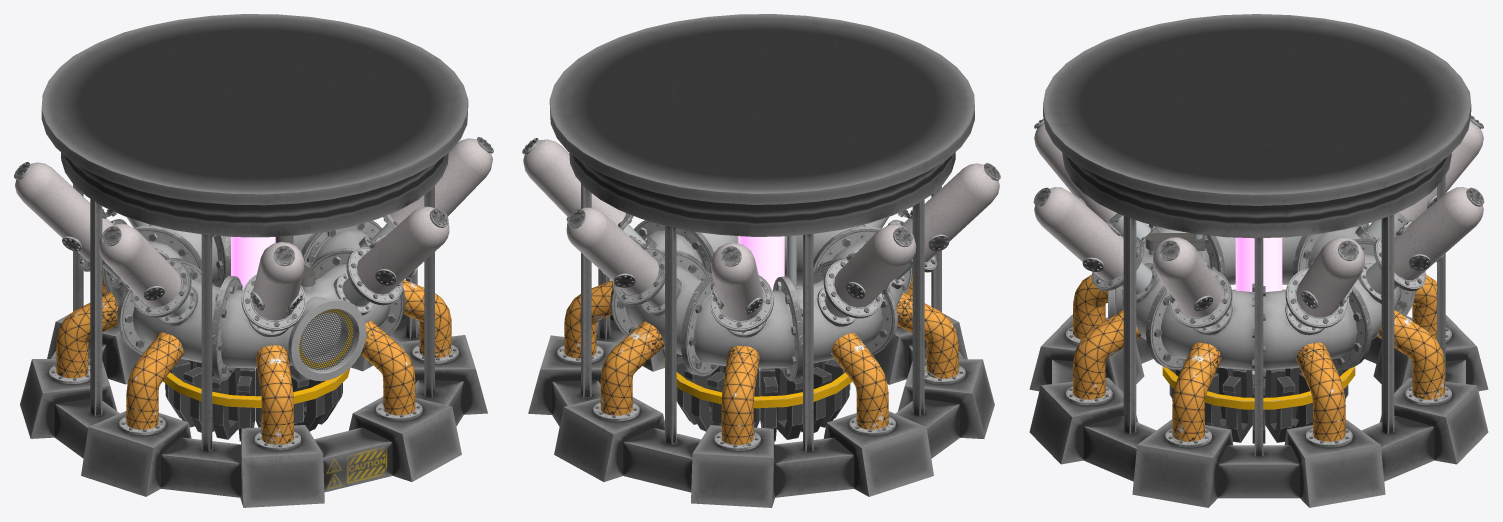
3 renders of one model, left to right at view 1: azimuth 30°, elevation 25°; view 2: azimuth 150°, elevation 25°; view 3: azimuth 270°, elevation 25°, orthographic.
Visible parts, largest first — view 1: HeroModel; view 2: HeroModel; view 3: HeroModel.
Boxes of the visible parts, bbox=[...] form: HeroModel: bbox=[14, 14, 493, 507]; HeroModel: bbox=[522, 14, 1000, 507]; HeroModel: bbox=[1029, 14, 1488, 507].
Bounding box in the file's own units: 4.05 × 2.98 × 4.05.
2 materials, 2 textured.
